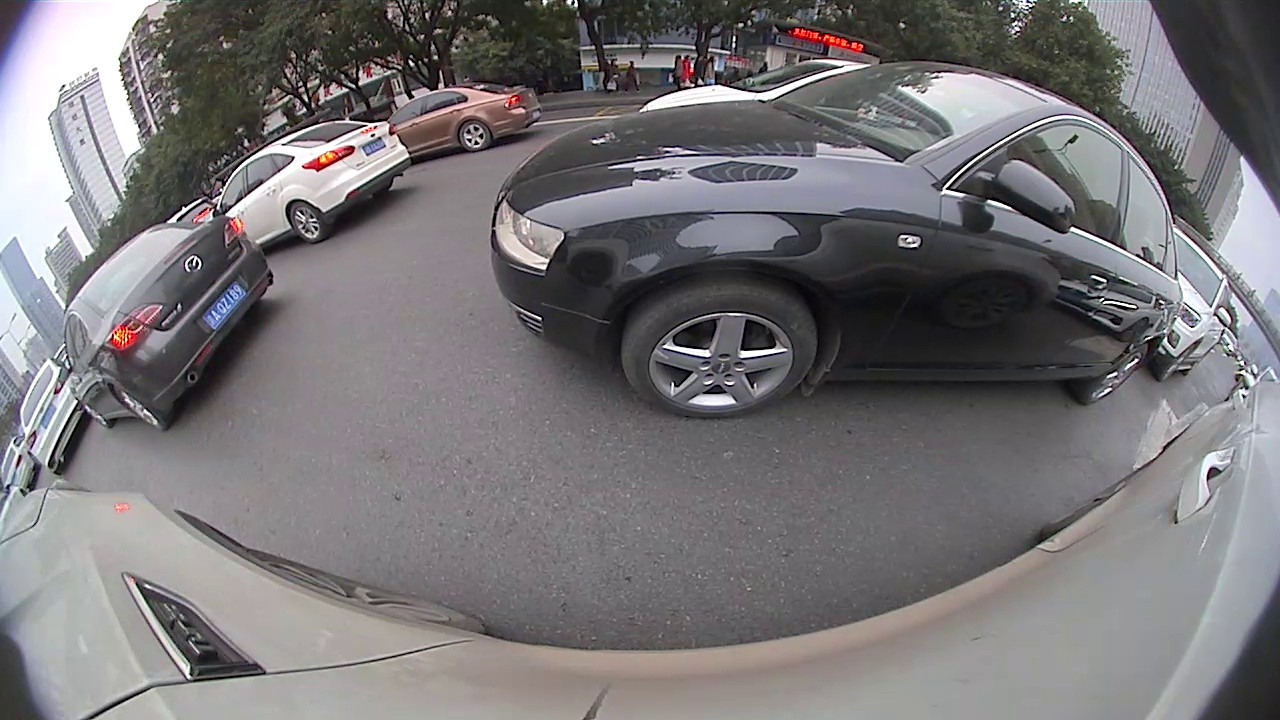car: (490, 59, 1184, 423), (61, 214, 274, 431), (212, 117, 411, 247), (1153, 217, 1230, 381), (385, 86, 543, 156), (18, 355, 90, 472), (1, 436, 39, 495)
front: (623, 283, 818, 420), (1157, 344, 1197, 382), (79, 401, 111, 431)
rear: (1079, 344, 1149, 406), (114, 386, 167, 429), (289, 200, 326, 245), (460, 120, 492, 152)
